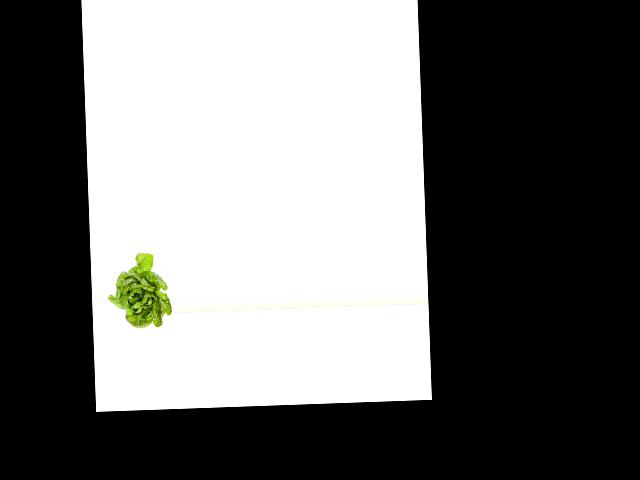lettuce: (106, 249, 170, 330)
